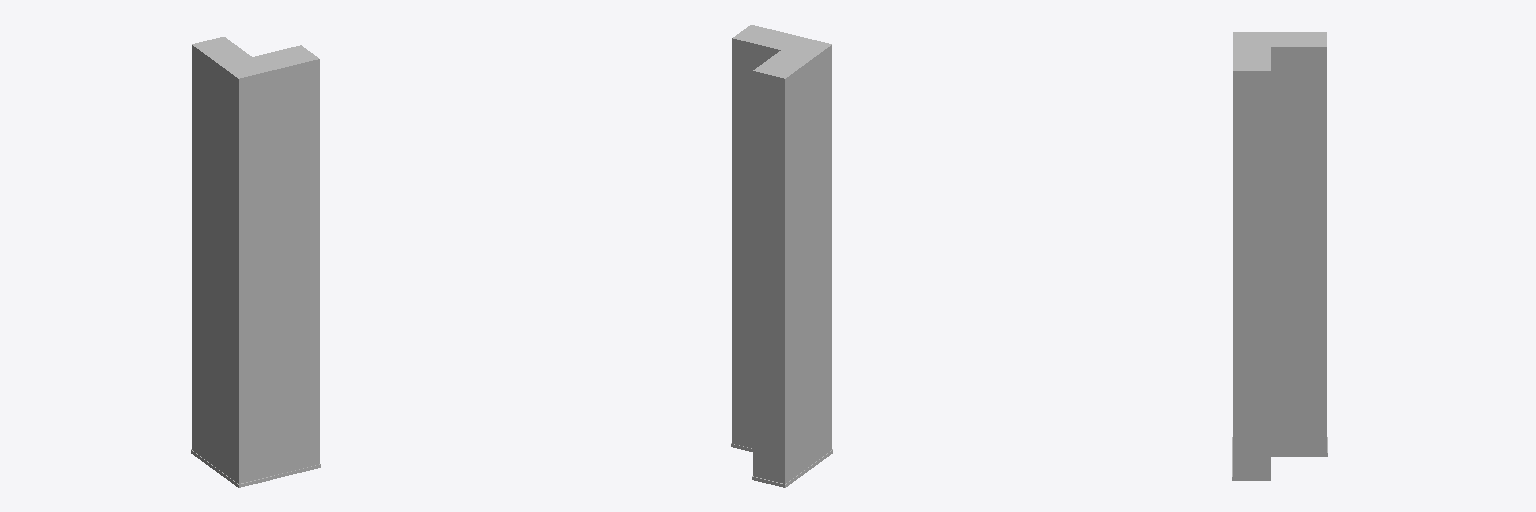
File: WallCorner.obj
3 renders of one model, left to right at view 1: azimuth 30°, elevation 25°; view 2: azimuth 150°, elevation 25°; view 3: azimuth 270°, elevation 25°, orthographic.
Visible parts, largest first — view 1: Cube.001; view 2: Cube.001; view 3: Cube.001.
Part boxes in pixels (left/top/right/bottom): Cube.001: left=191, top=37, right=320, bottom=487; Cube.001: left=731, top=25, right=832, bottom=487; Cube.001: left=1232, top=32, right=1327, bottom=480.
Bounding box in the file's own units: 1.27 × 6 × 1.28.